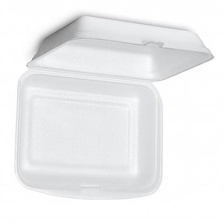foam_box: (9, 11, 217, 207)
